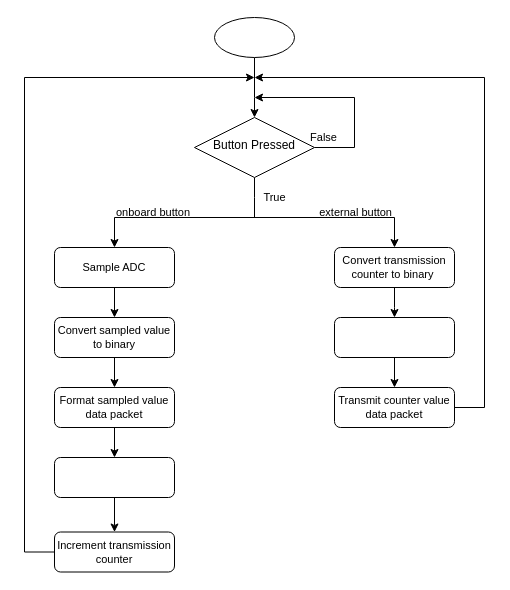
This 510x590 diagram has some shape labels left out. Here are the shapes that lost their labels. From the top down, the centre of each, then its label:
the point at 254,37: Start
the point at 394,337: Format counter value data packet
the point at 114,477: Transmit sampled value data packet
